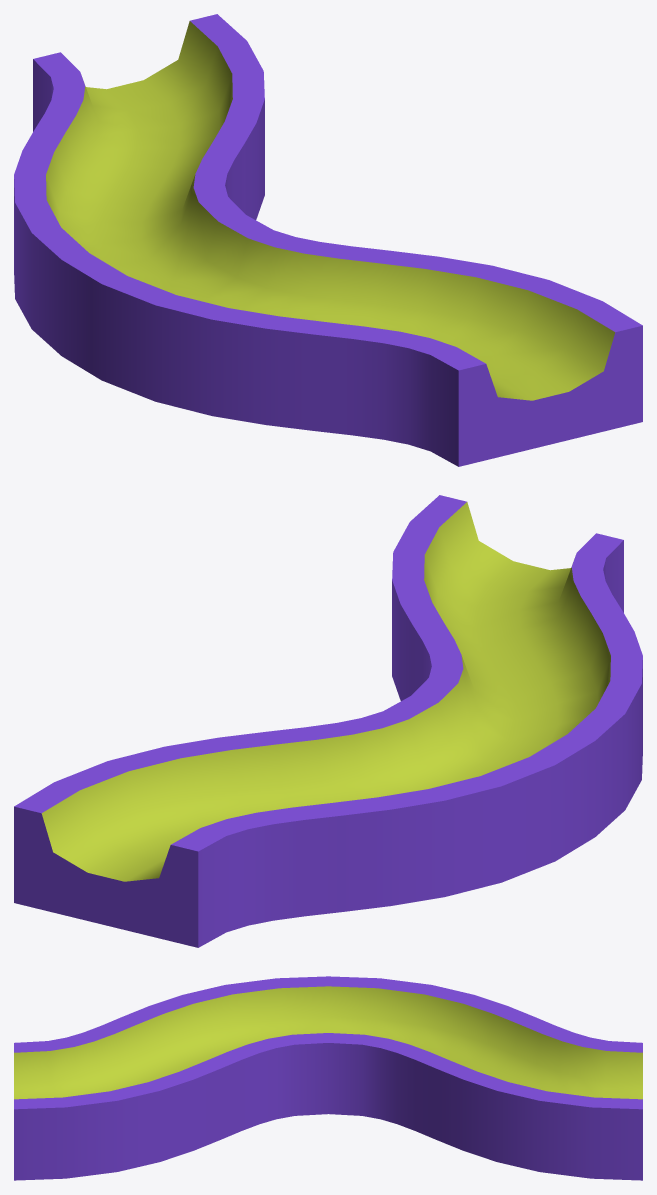
Rendered from wave_C-col.dae.
The picture shows the model from 3 angles, top to bottom: view 1: azimuth 30°, elevation 25°; view 2: azimuth 150°, elevation 25°; view 3: azimuth 270°, elevation 25°; orthographic projection. The views are drawn at different scales.
Visible parts, largest first — view 1: wave_C-col; view 2: wave_C-col; view 3: wave_C-col.
Boxes of the visible parts, left/top/right/bottom form: wave_C-col: left=14, top=14, right=642, bottom=466; wave_C-col: left=14, top=495, right=642, bottom=947; wave_C-col: left=14, top=976, right=642, bottom=1180.
Bounding box in the file's own units: 2 × 4 × 0.5.
